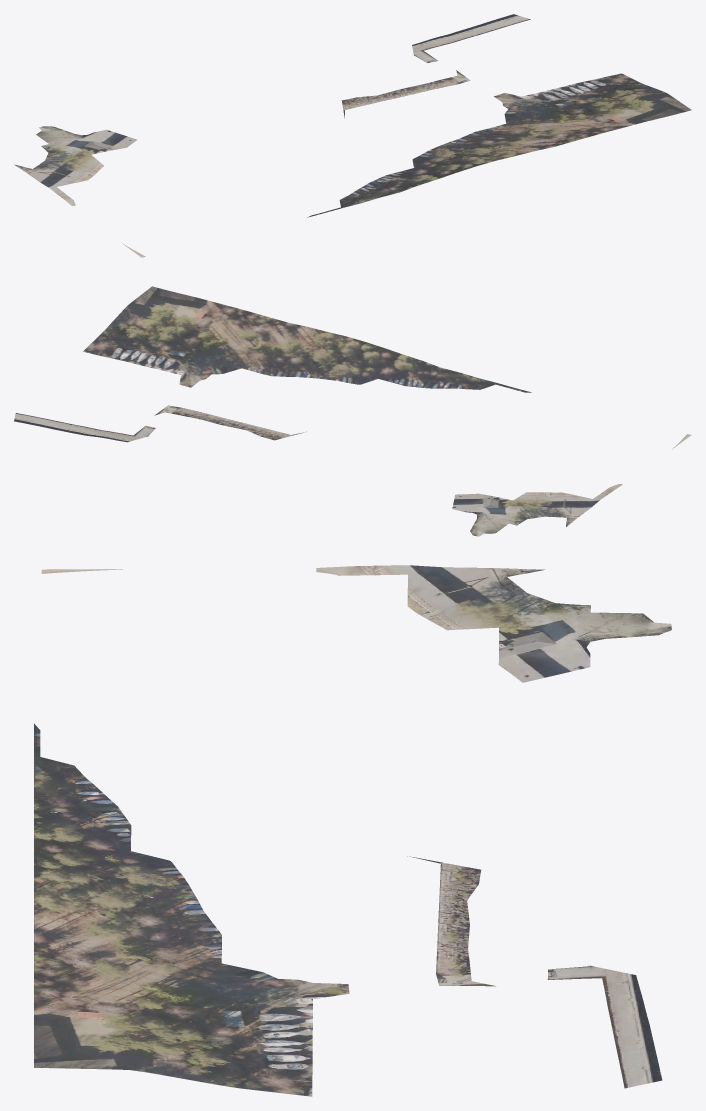
Rendered from CM_Terrain_24488615_6822865.fbx.
3 renders of one model, top to bottom at view 1: azimuth 30°, elevation 25°; view 2: azimuth 150°, elevation 25°; view 3: azimuth 270°, elevation 25°, orthographic. The views are drawn at different scales.
Parts seen in each view (by area): view 1: CM_Terrain_24488615_6822865_LOD0; view 2: CM_Terrain_24488615_6822865_LOD0; view 3: CM_Terrain_24488615_6822865_LOD0.
Part boxes in pixels (x1,y1,x2,y2): CM_Terrain_24488615_6822865_LOD0: [14, 14, 691, 257]; CM_Terrain_24488615_6822865_LOD0: [14, 286, 691, 536]; CM_Terrain_24488615_6822865_LOD0: [34, 565, 671, 1096].
Size of what is drawn, in the model's own units: 205 by 5.91 by 104.
